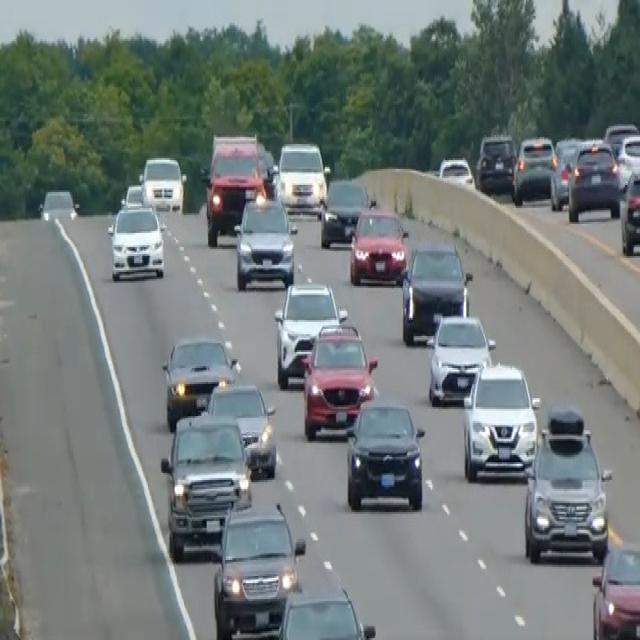car: (522, 404, 611, 564), (159, 409, 252, 560), (212, 496, 305, 638), (270, 542, 375, 638), (461, 359, 540, 482), (301, 320, 378, 439), (345, 398, 425, 512), (273, 278, 347, 388), (160, 332, 240, 428), (400, 240, 472, 343), (204, 379, 277, 478), (425, 310, 495, 406), (233, 192, 297, 290), (348, 203, 409, 286), (107, 199, 165, 281), (591, 542, 639, 638), (567, 137, 621, 222), (276, 139, 329, 215), (319, 176, 370, 247), (511, 133, 555, 204), (548, 135, 583, 210), (140, 153, 185, 211), (475, 132, 516, 194), (618, 162, 639, 256), (37, 187, 79, 222), (603, 119, 639, 157), (255, 142, 278, 198), (438, 153, 473, 187), (616, 132, 639, 182), (120, 181, 145, 208)
jeep: (199, 130, 267, 245)
